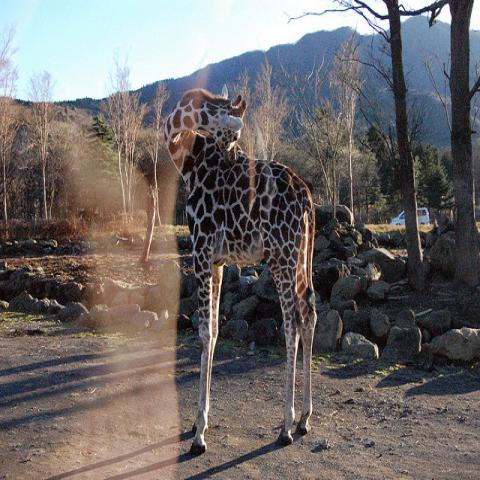car: (391, 207, 430, 226)
